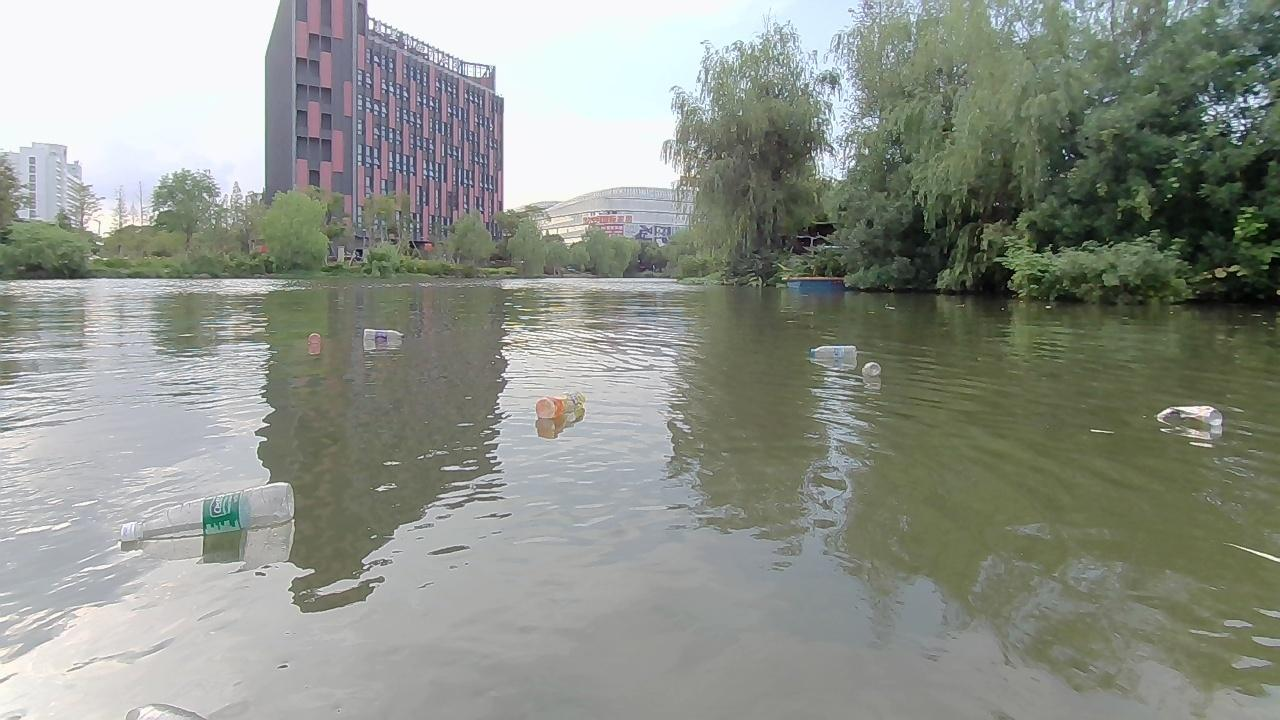bottle: (113, 479, 296, 541), (1154, 396, 1224, 432), (535, 390, 586, 426), (807, 337, 861, 365), (358, 323, 407, 347), (304, 327, 326, 353), (856, 361, 880, 376)
